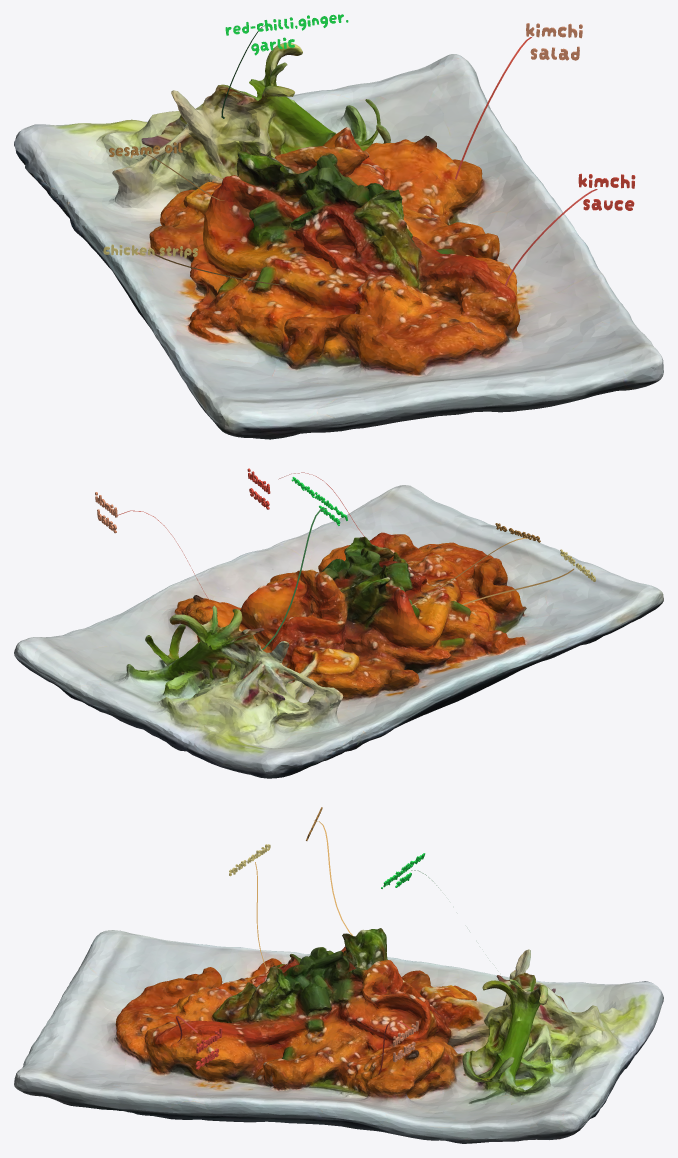
Rendered from fish_slice_dish.glb.
3 renders of one model, top to bottom at view 1: azimuth 30°, elevation 25°; view 2: azimuth 150°, elevation 25°; view 3: azimuth 270°, elevation 25°, orthographic. The views are drawn at different scales.
Parts seen in each view (by area): view 1: Mesh_0, Text.004, Text.002, Text; view 2: Mesh_0; view 3: Mesh_0.
Part boxes in pixels (box(x1,y1,x2,y2)): Mesh_0: box(14, 42, 663, 439); Text.004: box(225, 14, 348, 55); Text.002: box(526, 23, 582, 60); Text: box(578, 173, 635, 210); Mesh_0: box(14, 485, 663, 778); Mesh_0: box(14, 928, 663, 1143).
Size of the model in its own units: 0.8867 by 0.3875 by 1.12.
Materials: 10 (1 with a texture image).
